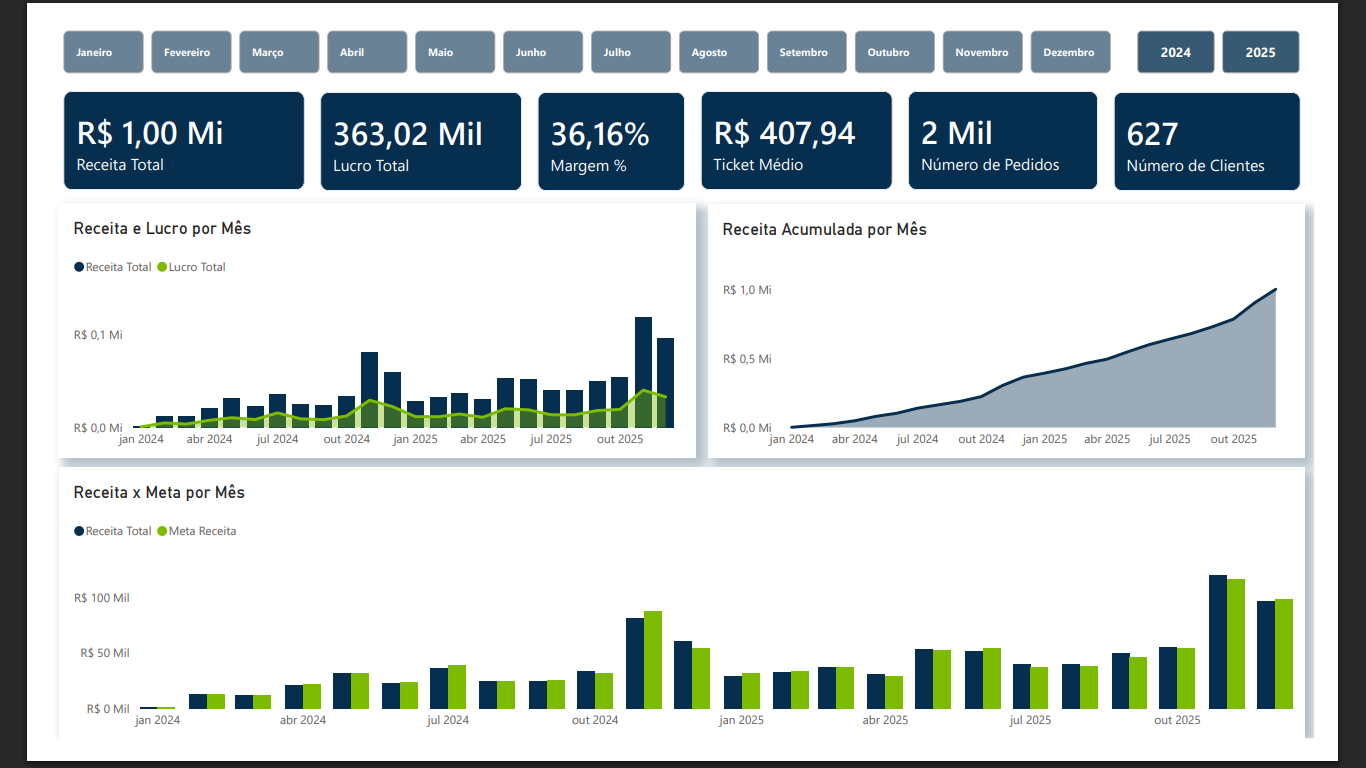

What the dashboard file says about the page in this screenshot:
{"tool":"powerbi","page":{"name":"Visão Executiva","canvas":[1280,720],"ordinal":0},"visuals":[{"type":"cardVisual","fields":{"Data":["_Medidas.Receita Total"]},"box":[9,61,254,110],"z":0},{"type":"cardVisual","fields":{"Data":["_Medidas.Número de Clientes"]},"box":[1071.8,61.9,199,110],"z":1000},{"type":"cardVisual","fields":{"Data":["_Medidas.Lucro Total"]},"box":[269.4,61.9,214,110],"z":2000},{"type":"cardVisual","fields":{"Data":["_Medidas.Margem %"]},"box":[489.3,61.9,159,110],"z":3000},{"type":"cardVisual","fields":{"Data":["_Medidas.Número de Pedidos"]},"box":[863.9,61.5,202,110],"z":4000},{"type":"cardVisual","fields":{"Data":["_Medidas.Ticket Médio"]},"box":[654.1,61.5,204,110],"z":5000},{"type":"lineClusteredColumnComboChart","title":"Receita e Lucro por Mês","fields":{"Category":["dim_calendario.ano_mes"],"Y":["_Medidas.Receita Total"],"Y2":["_Medidas.Lucro Total"]},"box":[9,179,645,257],"z":6000},{"type":"areaChart","title":"Receita Acumulada por Mês","fields":{"Category":["dim_calendario.ano_mes"],"Y":["_Medidas.Receita Acumulada"]},"box":[665.9,180,604.4,256.1],"z":7000},{"type":"clusteredColumnChart","title":"Receita x Meta por Mês","fields":{"Category":["fato_Metas.ano_mes"],"Y":["_Medidas.Receita Total","_Medidas.Meta Receita"]},"box":[8.8,446.3,1261.5,273.7],"z":8000},{"type":"advancedSlicerVisual","fields":{"Values":["dim_calendario.ano"]},"box":[1096.1,0,174.1,52.7],"z":9000},{"type":"advancedSlicerVisual","fields":{"Values":["dim_calendario.mes_nome"]},"box":[8.8,0,1078.5,52.7],"z":10000}]}

Visuals, with their boxes in screenshot pixels (x1, y1, x2, y2), scaled from the page's 1280x720 canvas onto the 1366x768 screenshot:
cardVisual - _Medidas.Receita Total: 10:65:281:182
cardVisual - _Medidas.Número de Clientes: 1144:66:1356:183
cardVisual - _Medidas.Lucro Total: 288:66:516:183
cardVisual - _Medidas.Margem %: 522:66:692:183
cardVisual - _Medidas.Número de Pedidos: 922:66:1138:183
cardVisual - _Medidas.Ticket Médio: 698:66:916:183
"Receita e Lucro por Mês" lineClusteredColumnComboChart: 10:191:698:465
"Receita Acumulada por Mês" areaChart: 711:192:1356:465
"Receita x Meta por Mês" clusteredColumnChart: 9:476:1356:767
advancedSlicerVisual - dim_calendario.ano: 1170:0:1356:56
advancedSlicerVisual - dim_calendario.mes_nome: 9:0:1160:56
